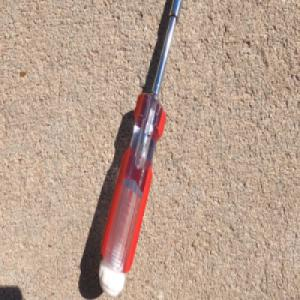Screwdriver: (97, 0, 183, 298)
